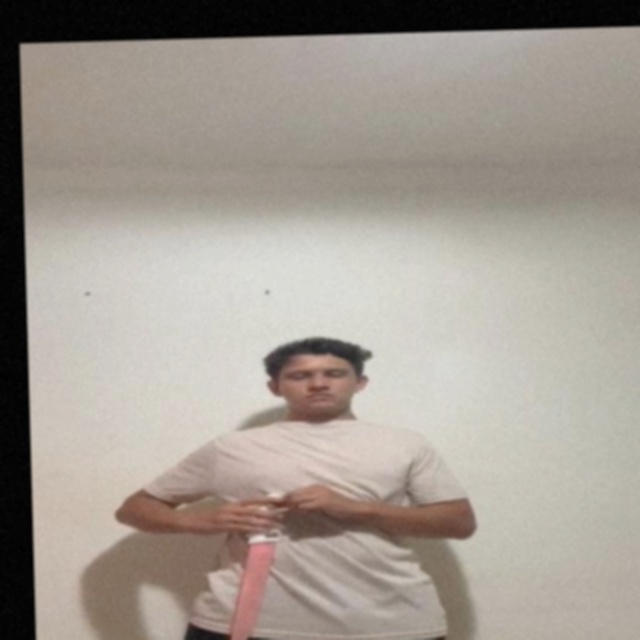Sharp-Object: (222, 538, 279, 640)
